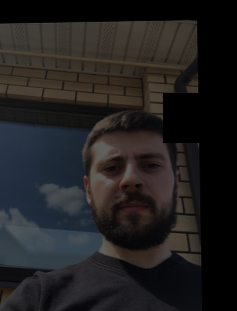without_mask: (94, 145, 176, 250)
